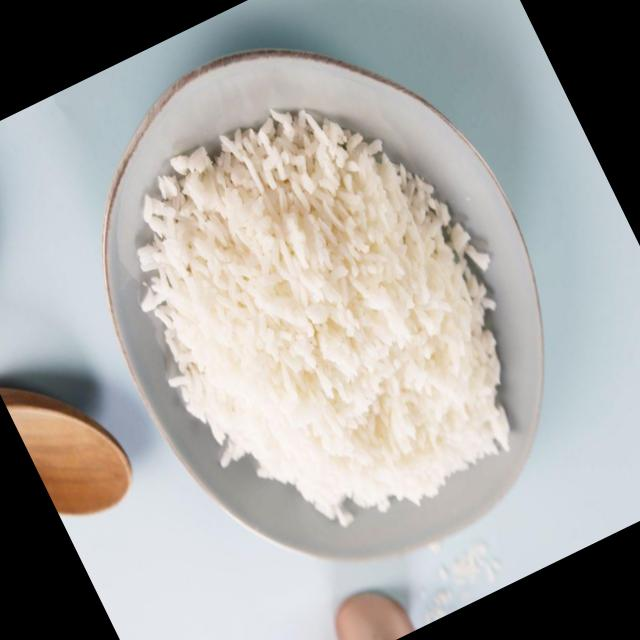rice: (140, 123, 513, 524)
